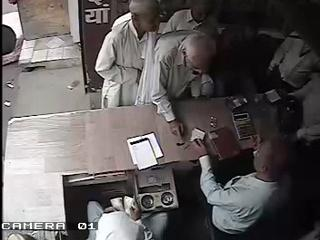Normal: (186, 132, 294, 240), (137, 31, 223, 140)
shoplifting: (94, 0, 161, 109)
